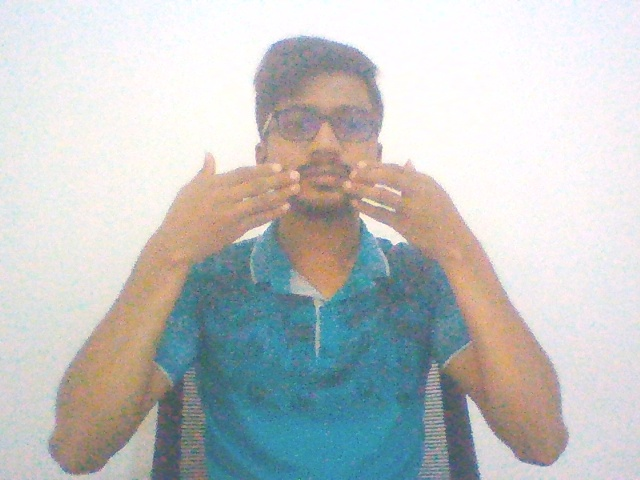cat: (122, 135, 499, 277)
